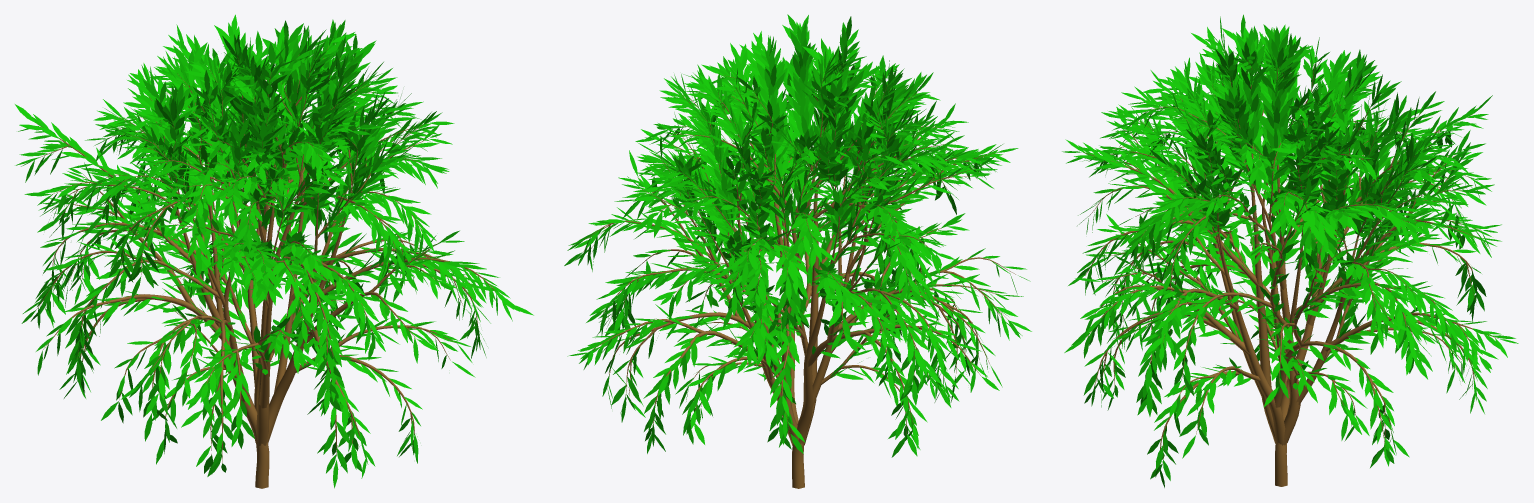
The model's file is tree.fbx.
3 views of the same model, side by side, from view 1: azimuth 30°, elevation 25°; view 2: azimuth 150°, elevation 25°; view 3: azimuth 270°, elevation 25° (orthographic). The views are drawn at different scales.
Parts seen in each view (by area): view 1: leaves, tree; view 2: leaves, tree; view 3: leaves, tree.
Part boxes in pixels (x1,y1,x2,y2): leaves: [15, 14, 533, 488]; tree: [36, 46, 494, 488]; leaves: [564, 14, 1031, 457]; tree: [583, 63, 1015, 488]; leaves: [1062, 14, 1518, 487]; tree: [1083, 44, 1498, 486].
Size of the model in its own units: 616 by 689 by 626.
